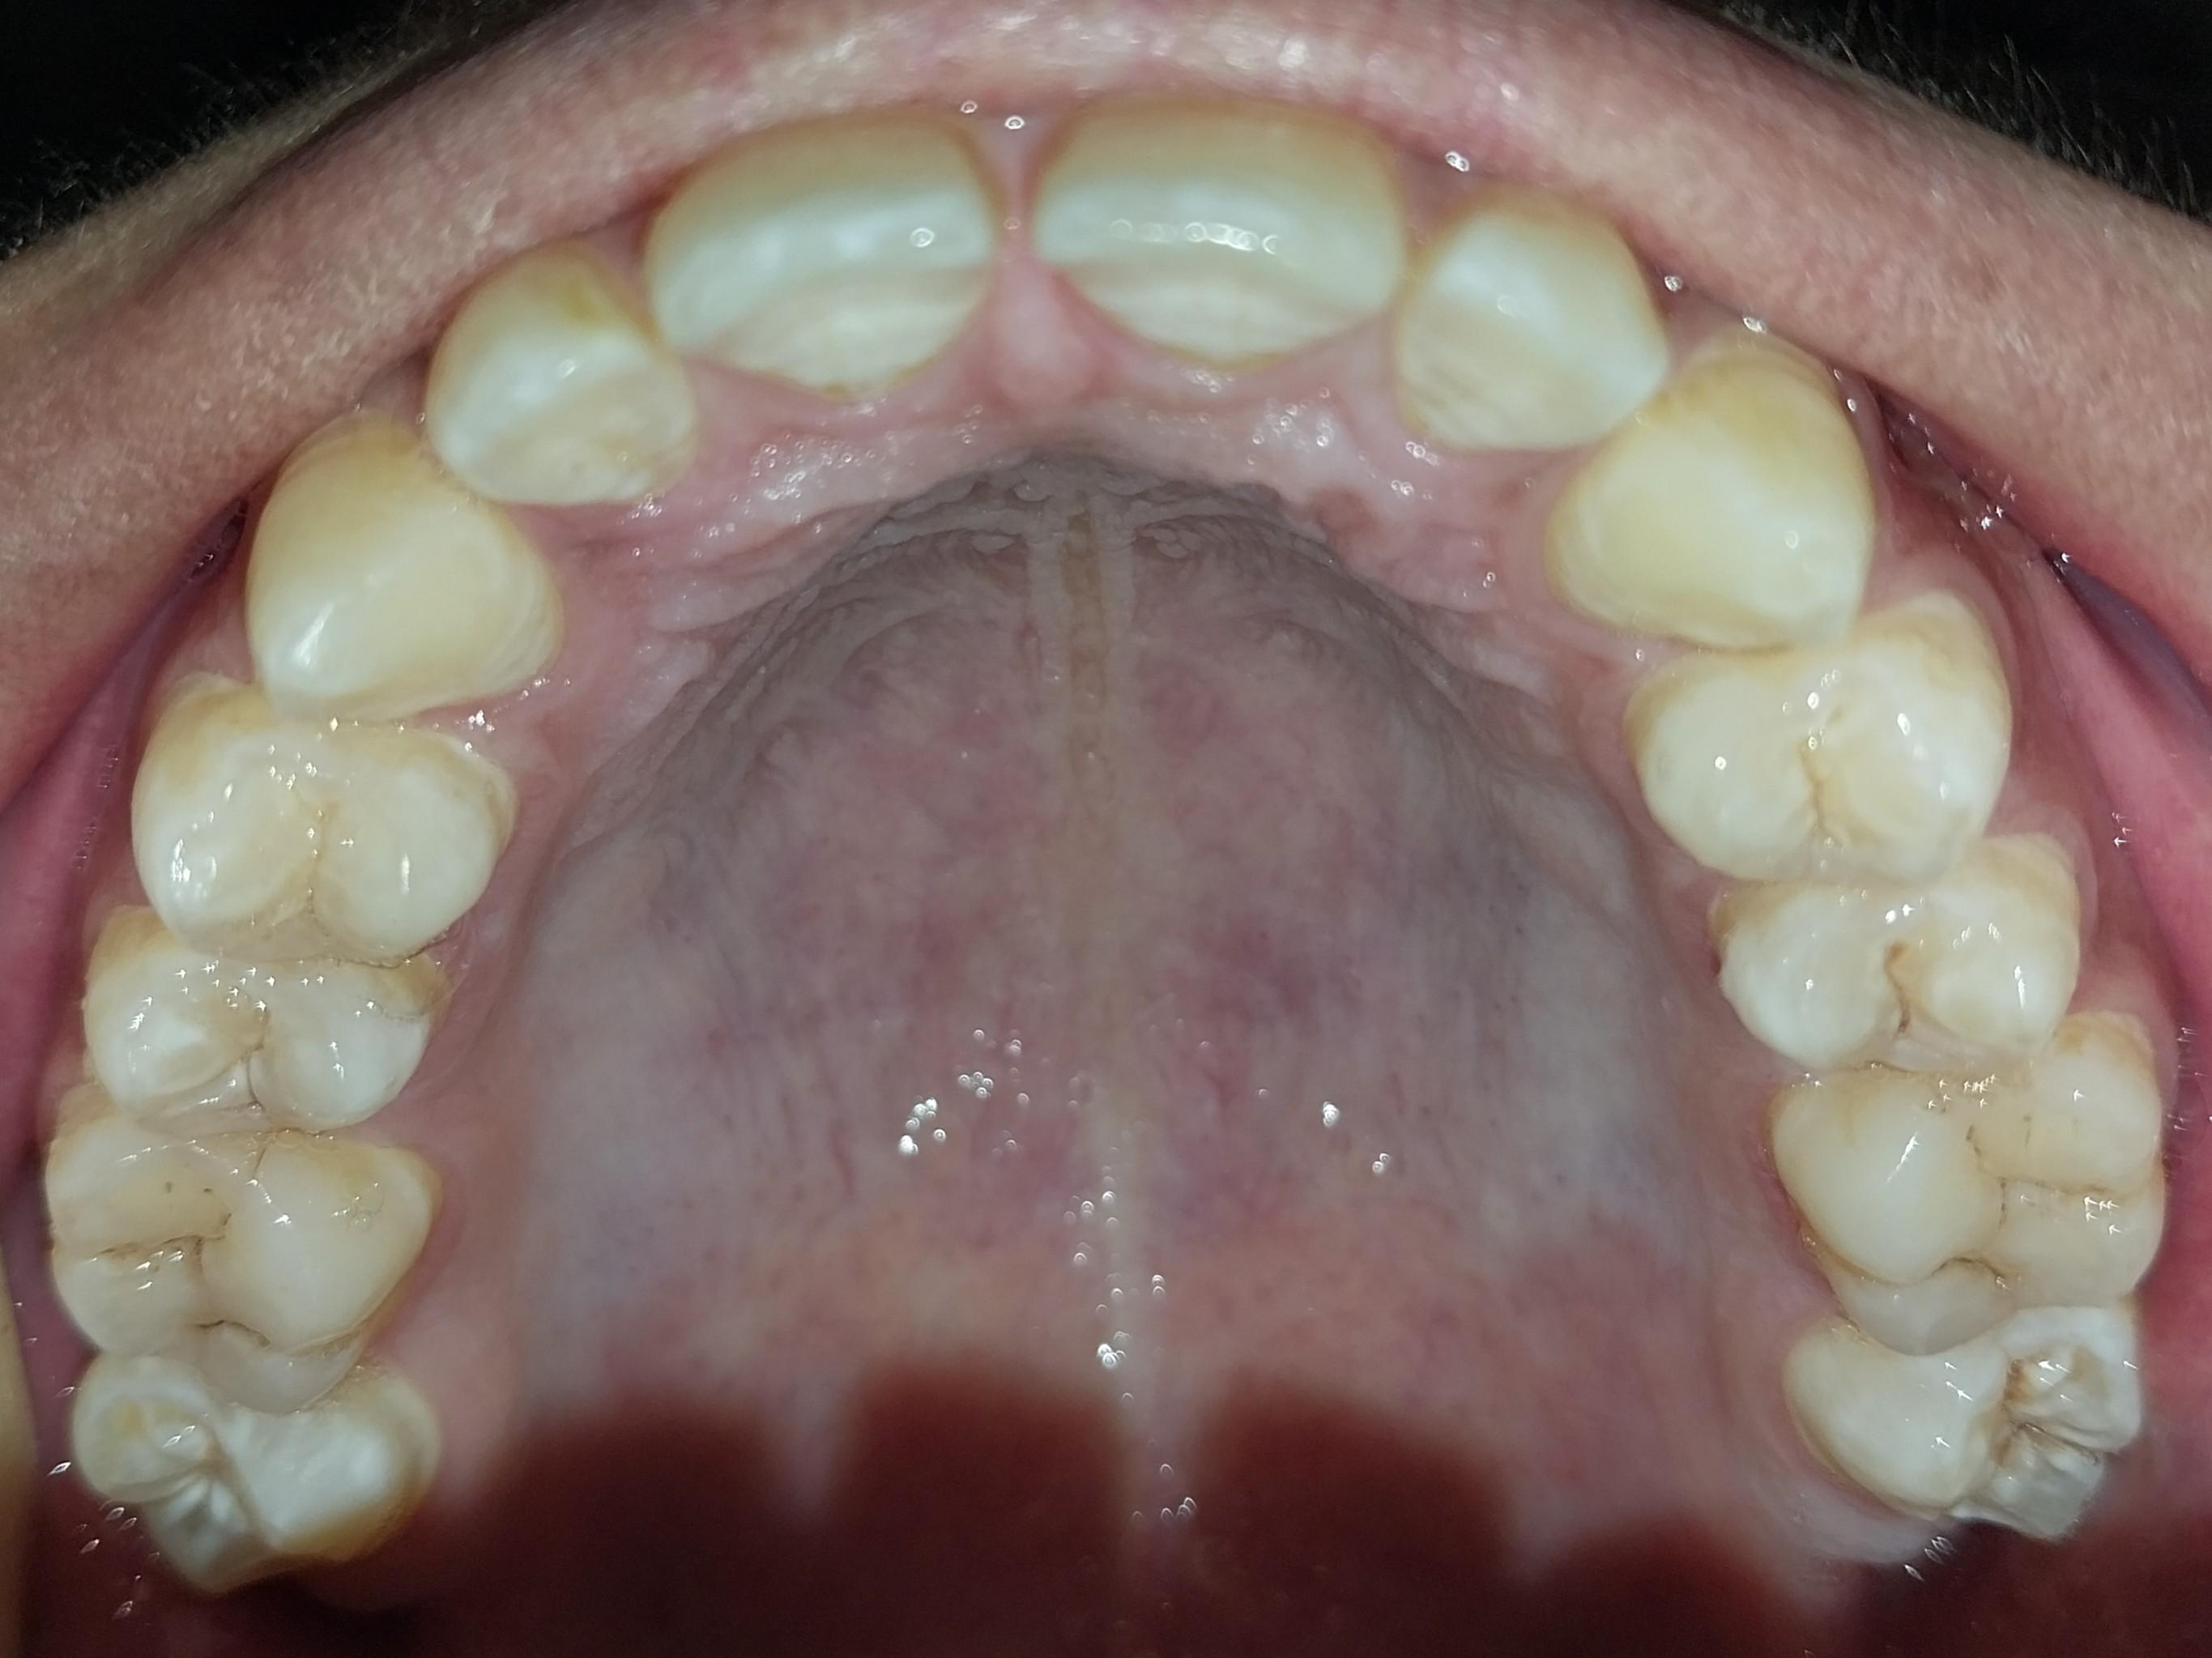D: (40, 1091, 436, 1421), (1717, 840, 2112, 1068), (1786, 1303, 2142, 1545)
